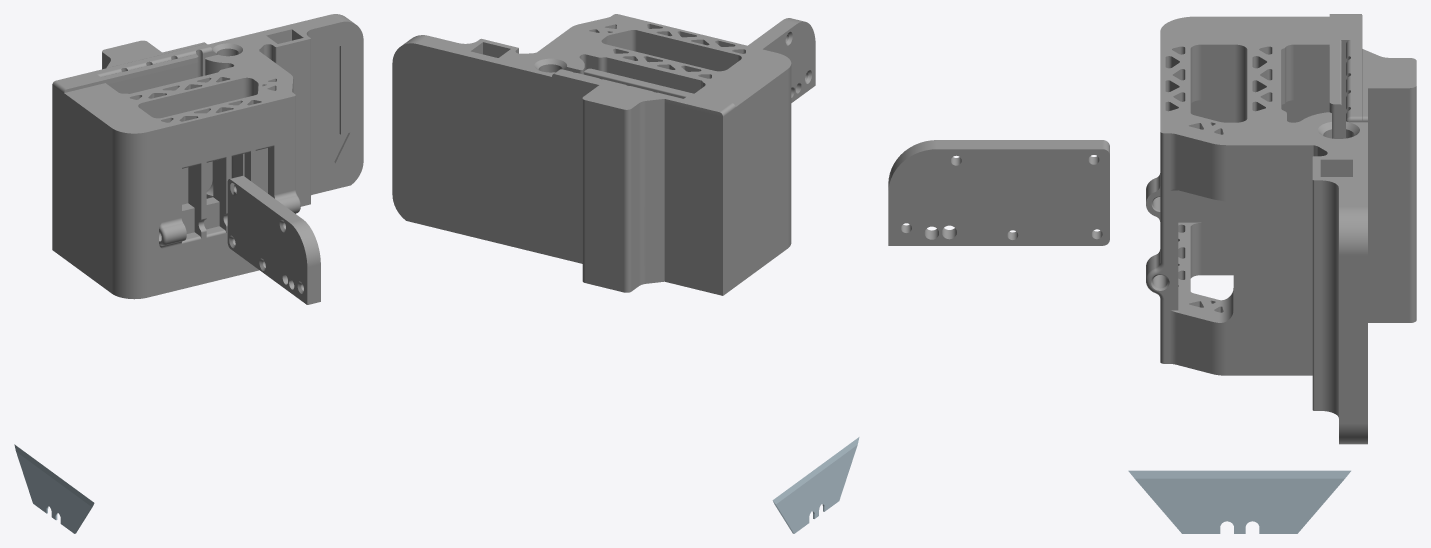
The model's file is reamus-keder-cutting-tool.glb.
3 renders of one model, left to right at view 1: azimuth 30°, elevation 25°; view 2: azimuth 150°, elevation 25°; view 3: azimuth 270°, elevation 25°, orthographic. The views are drawn at different scales.
Parts seen in each view (by area): view 1: =>[0:1:1:3], Razorblade_Mockup v1:1; view 2: =>[0:1:1:3], Razorblade_Mockup v1:1; view 3: =>[0:1:1:3], Razorblade_Mockup v1:1.
Boxes of the visible parts, x1,y1,x2,y2 form: =>[0:1:1:3]: [52, 14, 363, 304]; Razorblade_Mockup v1:1: [14, 444, 94, 533]; =>[0:1:1:3]: [392, 14, 815, 295]; Razorblade_Mockup v1:1: [772, 437, 859, 533]; =>[0:1:1:3]: [888, 14, 1416, 444]; Razorblade_Mockup v1:1: [1128, 470, 1350, 533].
Bounding box in the file's own units: 0.1528 × 0.1669 × 0.1454.
